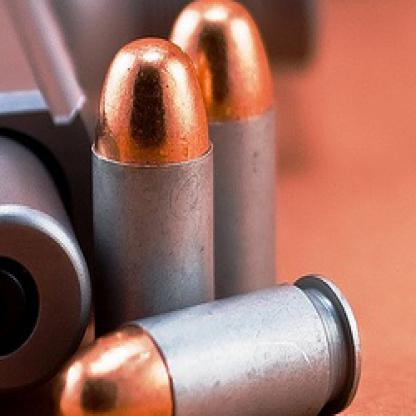gun: (0, 0, 331, 414)
